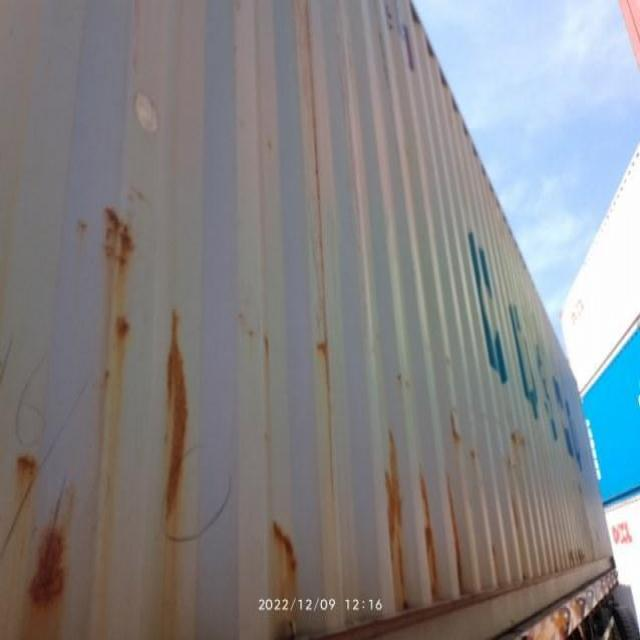rust: (167, 324, 190, 502), (263, 518, 302, 569), (385, 456, 404, 516), (106, 222, 134, 260), (452, 412, 478, 440)
